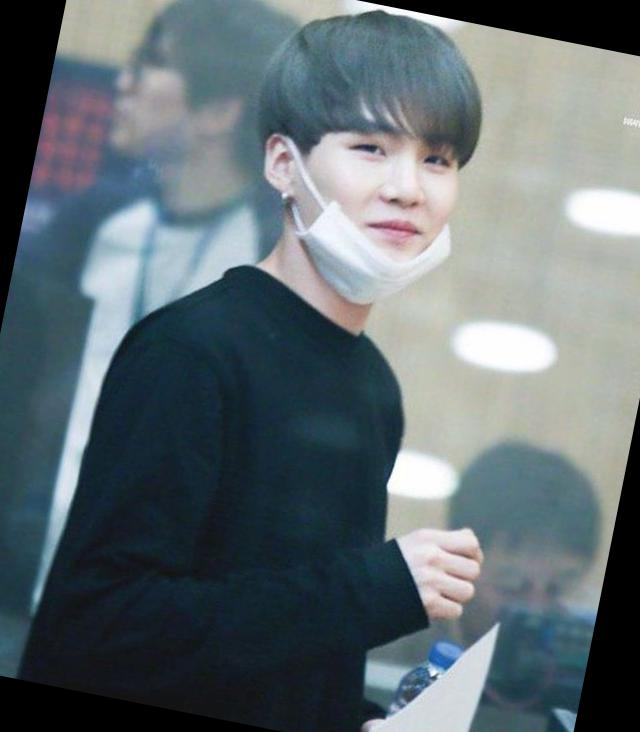mask_weared_incorrect: (293, 130, 471, 315)
without_mask: (107, 50, 188, 161)
